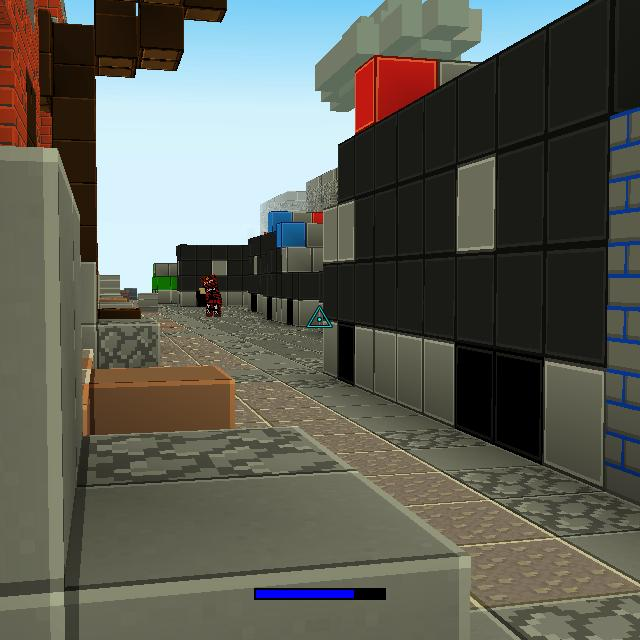enemy: (199, 274, 223, 316)
